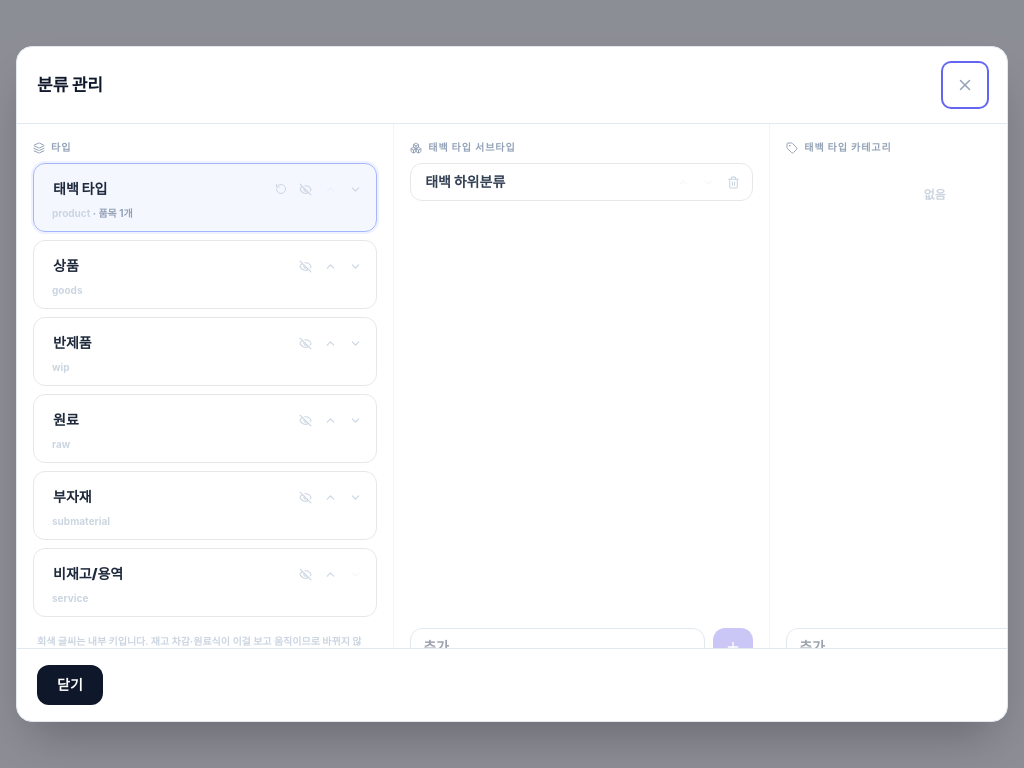
Scenario: 현재 회사 분류 숨김 승인은 정상 저장하고 취소는 쓰지 않는다
Click the 1st button titled "안 씀 (숨김)" at (306, 189), box [295, 179, 316, 200]
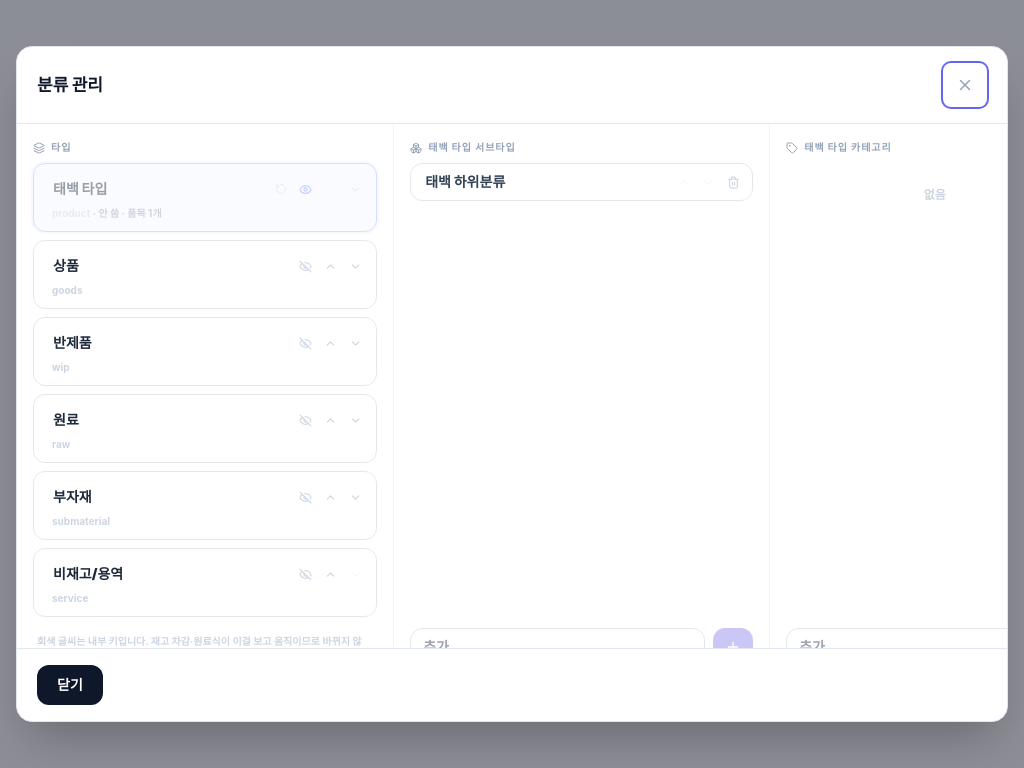
expect the button titled "다시 쓰기" is shown: met, box [295, 179, 316, 200]
